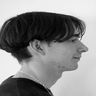ear: (26, 34, 50, 58)
